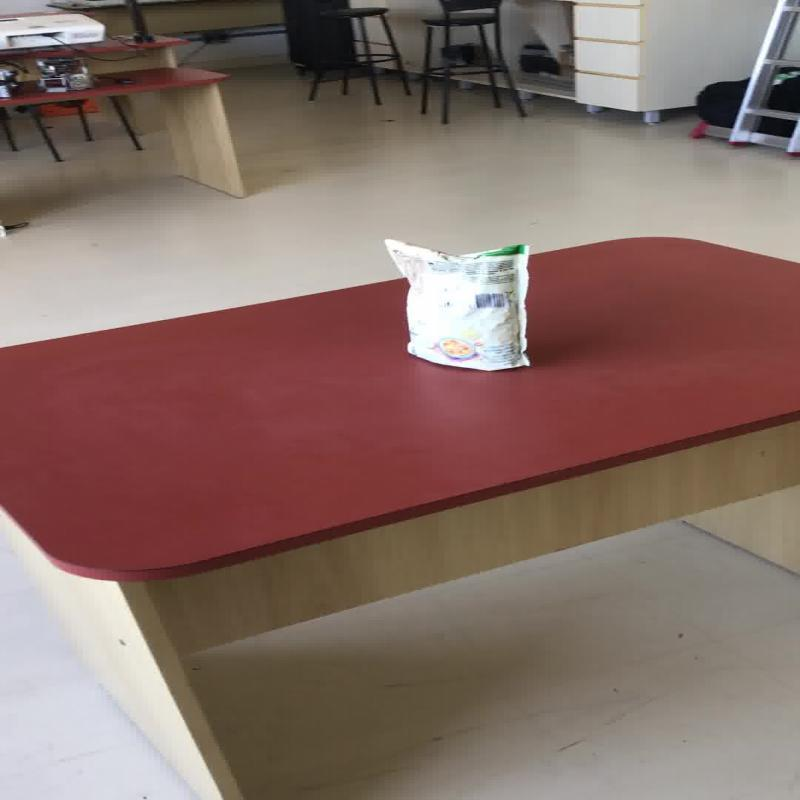corn flakes: (382, 237, 531, 371)
